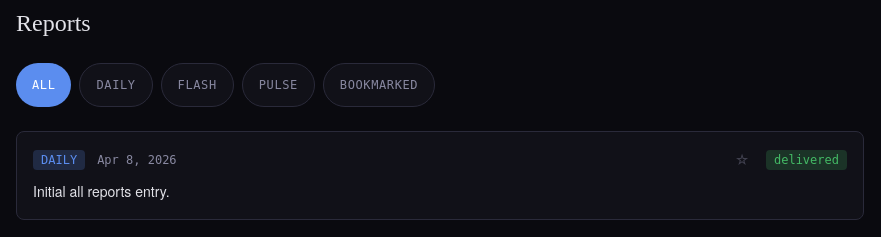
Test case: ReportList › does not clobber newer filter results with a stale in-flight fetch (regression for #195)
This screenshot has width=881, height=237.
Check: the text "Initial all reports entry." is shown, box [33,181,170,201]
Click the radio button labelled "daily" at {"x": 116, "y": 85}, box [80,63,153,107]
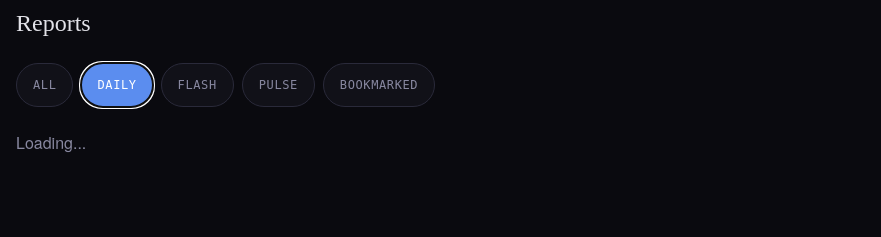
Click the radio button labelled "flash" at {"x": 197, "y": 85}, box [161,63,234,107]
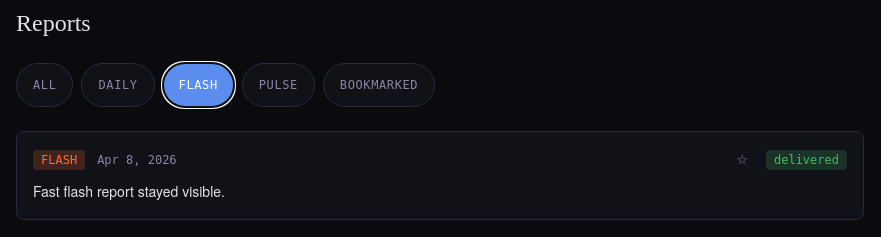
Check: the link "Initial all reports entry." is not shown
Check: the text "Fast flash report stayed visible." is shown, box [33,181,225,201]
